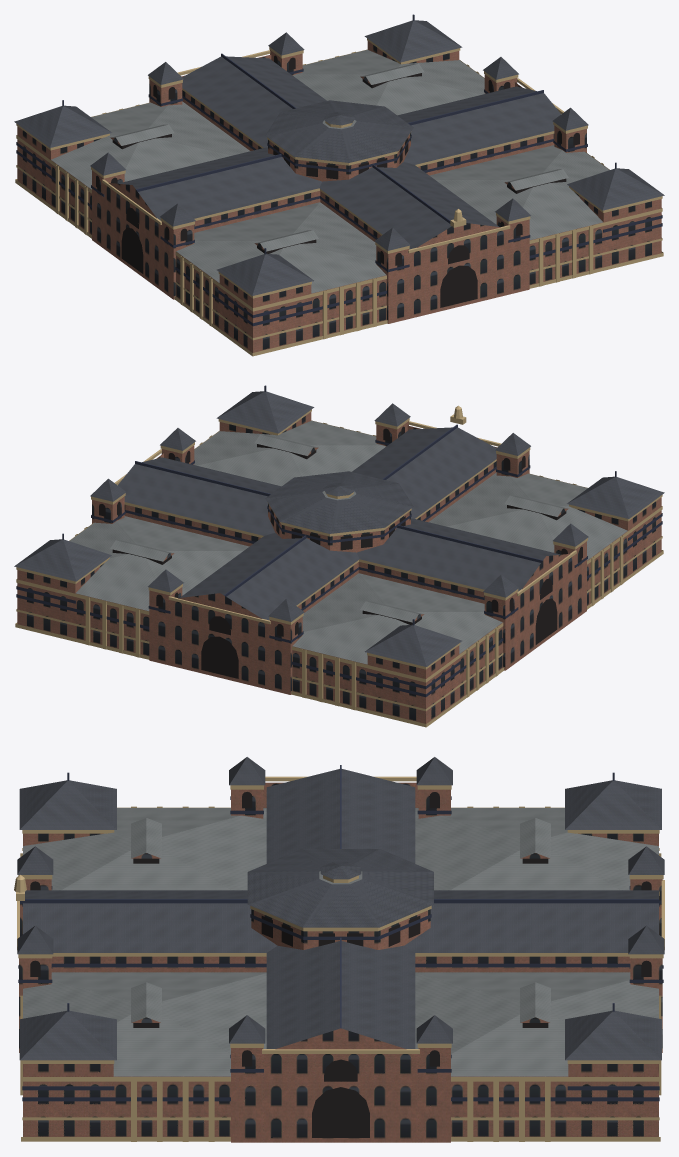
The model's file is arts_industries.glb.
3 views of the same model, one above another, from view 1: azimuth 30°, elevation 25°; view 2: azimuth 150°, elevation 25°; view 3: azimuth 270°, elevation 25° (orthographic). The views are drawn at different scales.
Parts seen in each view (by area): view 1: arts_industries; view 2: arts_industries; view 3: arts_industries.
Boxes of the visible parts, box(x1,y1,x2,y2) form: arts_industries: box(14, 14, 664, 356); arts_industries: box(14, 385, 664, 727); arts_industries: box(14, 757, 664, 1142).
Bounding box in the file's own units: 100 × 24 × 101.
Materials: 4 (4 with a texture image).
